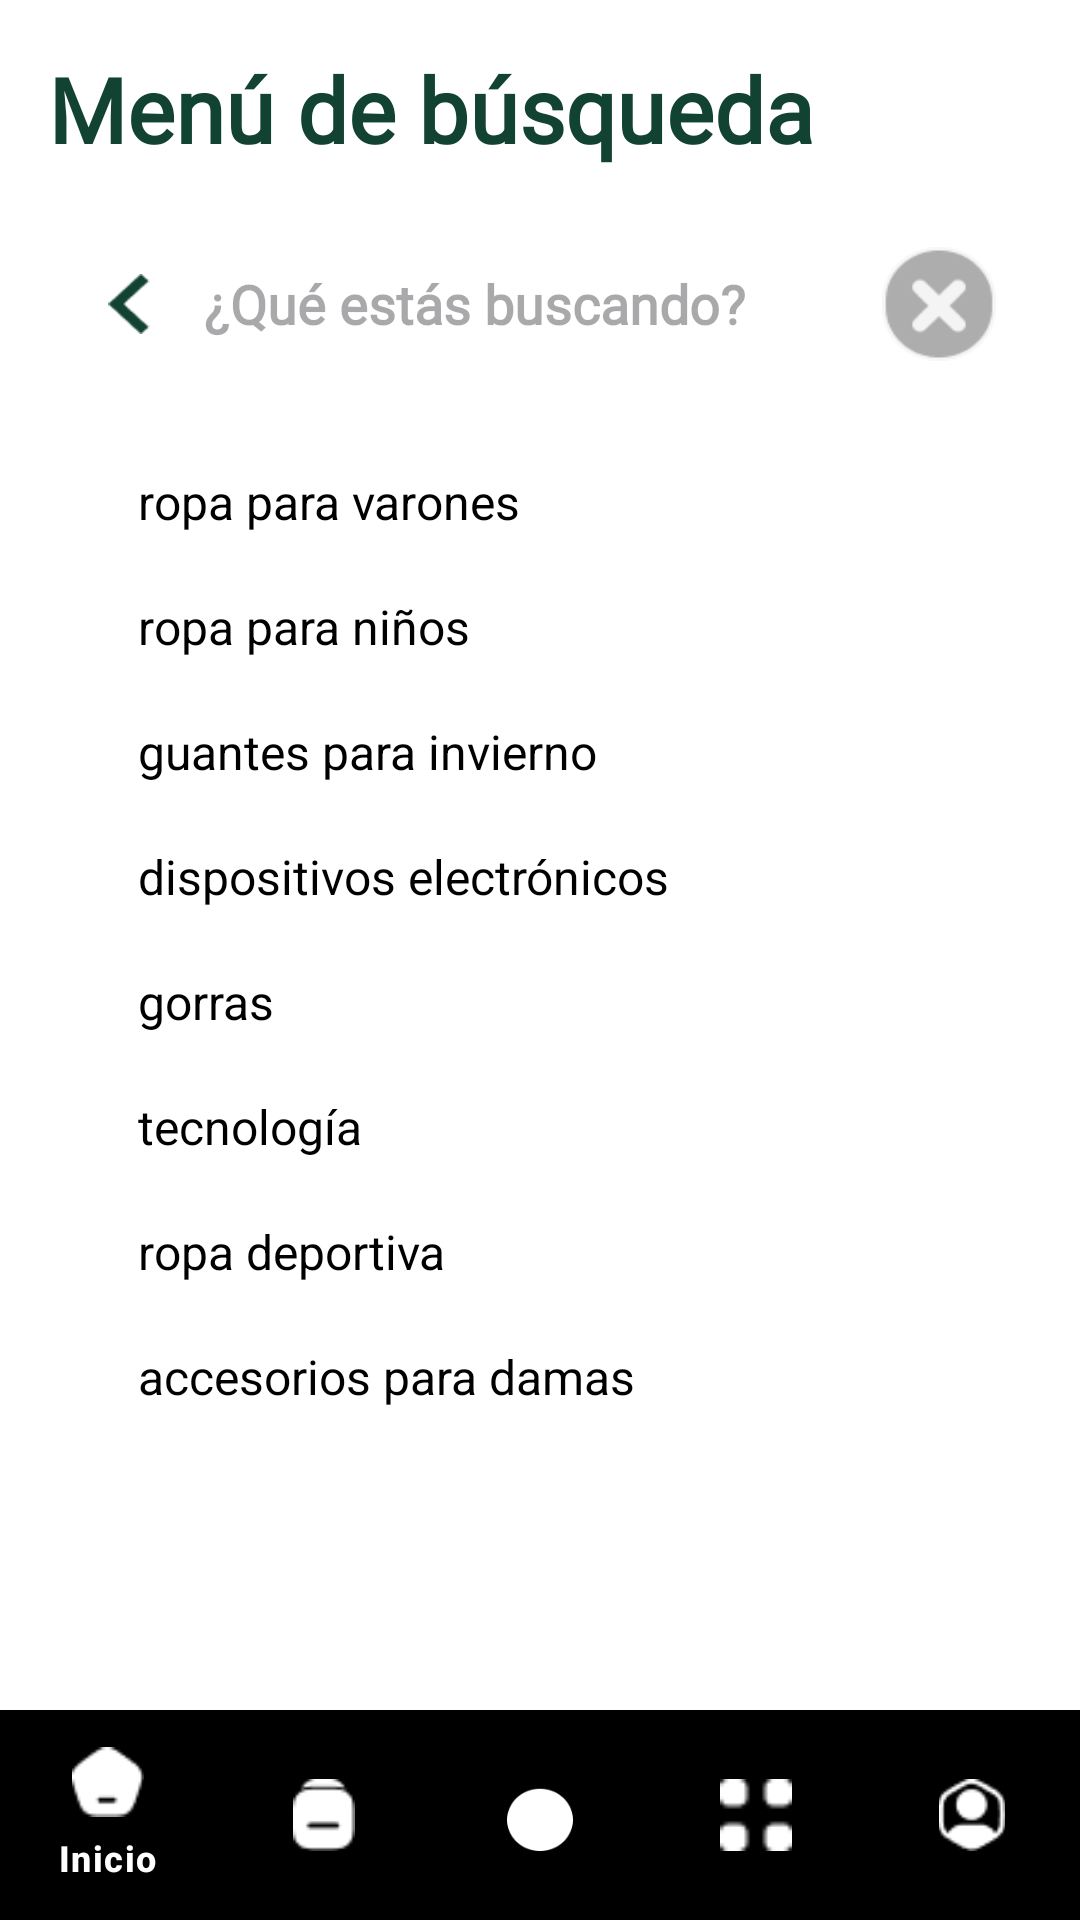

Icons on this 1080px x 1920px Android screen, each with its box as (x1, y1, x2, y2):
Limpiar texto: (885, 250, 993, 358)
